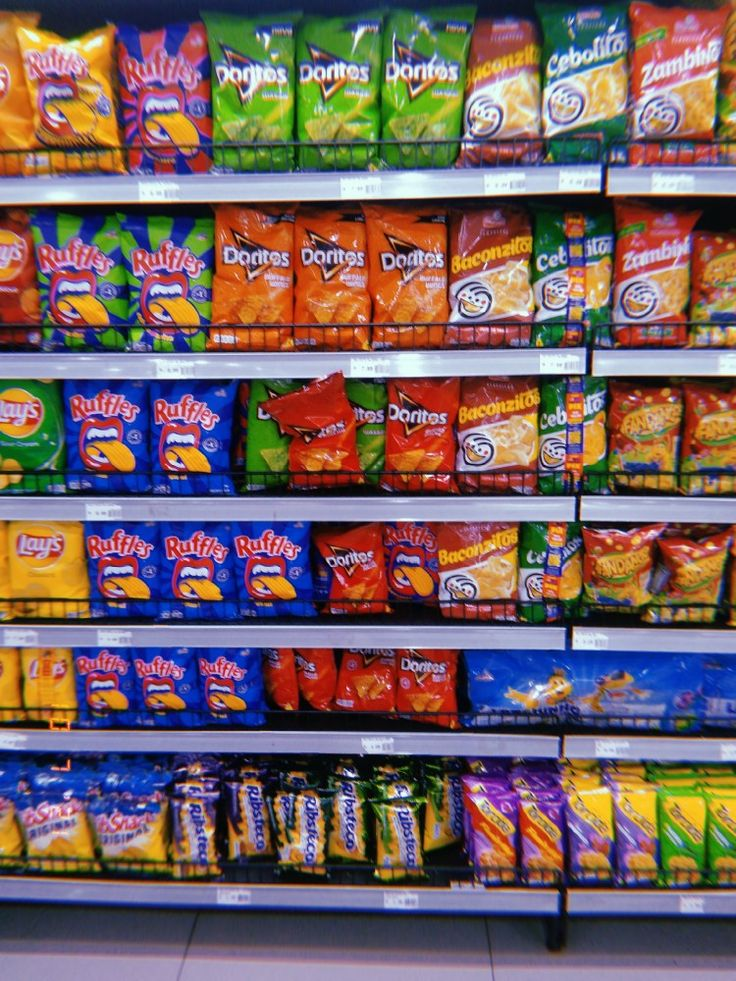Baconzilos: (451, 369, 554, 515)
Doritos: (208, 202, 300, 357)
Ruffles: (138, 371, 251, 513)
